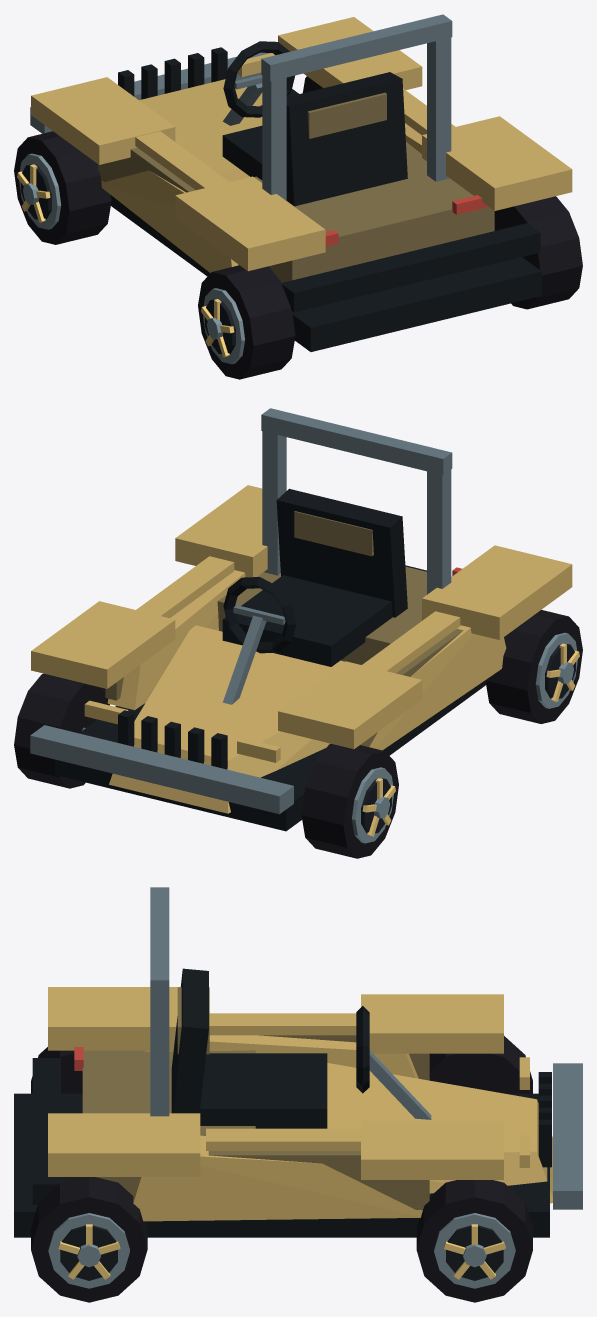
Rendered from kart.glb.
The picture shows the model from 3 angles, top to bottom: view 1: azimuth 30°, elevation 25°; view 2: azimuth 150°, elevation 25°; view 3: azimuth 270°, elevation 25°; orthographic projection. The views are drawn at different scales.
Parts seen in each view (by area): view 1: chassis, wheel-rear-left, wheel-front-left, wheel-rear-right; view 2: chassis, wheel-front-left, wheel-rear-left, wheel-front-right; view 3: chassis, wheel-rear-right, wheel-front-right, wheel-front-left, wheel-rear-left.
Part boxes in pixels (x1,y1,x2,y2): chassis: (30,14,572,351); wheel-rear-left: (198,265,295,379); wheel-front-left: (14,131,111,244); wheel-rear-right: (494,196,582,309); chassis: (30,408,572,831); wheel-front-left: (301,744,398,858); wheel-rear-left: (485,610,582,723); wheel-front-right: (14,673,109,788); chassis: (14,887,582,1237); wheel-rear-right: (31,1177,147,1302); wheel-front-right: (416,1180,532,1302); wheel-front-left: (429,1036,532,1093); wheel-rear-left: (31,1047,82,1093).
Size of the model in its own units: 2.29 by 1.67 by 3.02.
